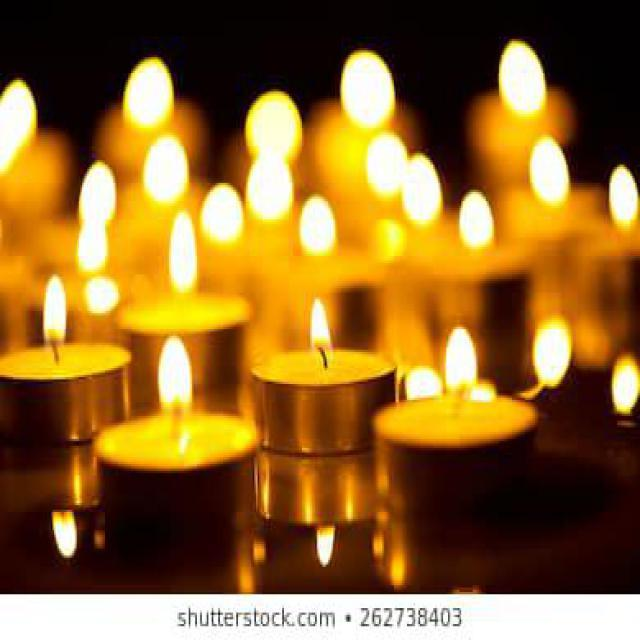Fire: (159, 334, 194, 426), (444, 327, 478, 402), (44, 276, 68, 348), (311, 300, 334, 364)
